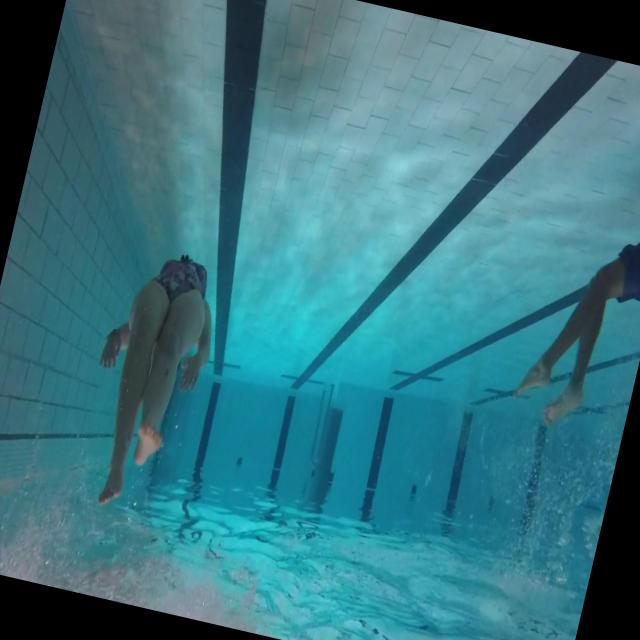human: (68, 241, 231, 522), (507, 201, 640, 444)
